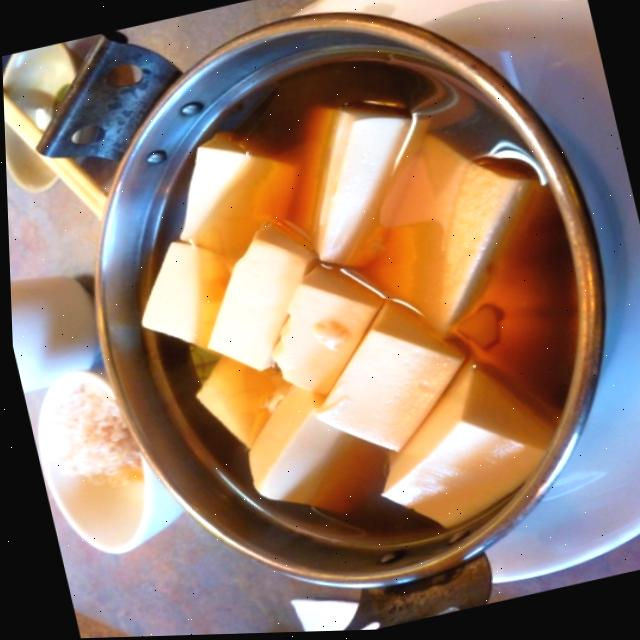豆腐料理: (47, 0, 638, 622)
